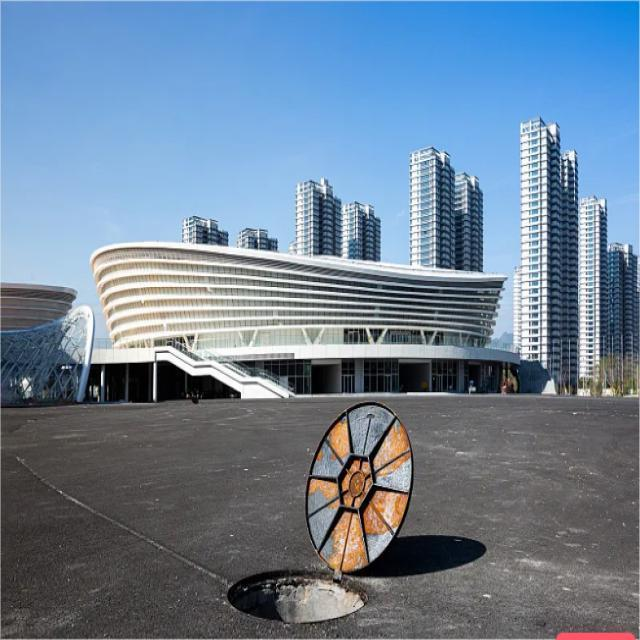manhole: (228, 571, 368, 624)
